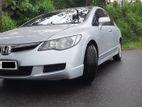car: (0, 5, 124, 88)
